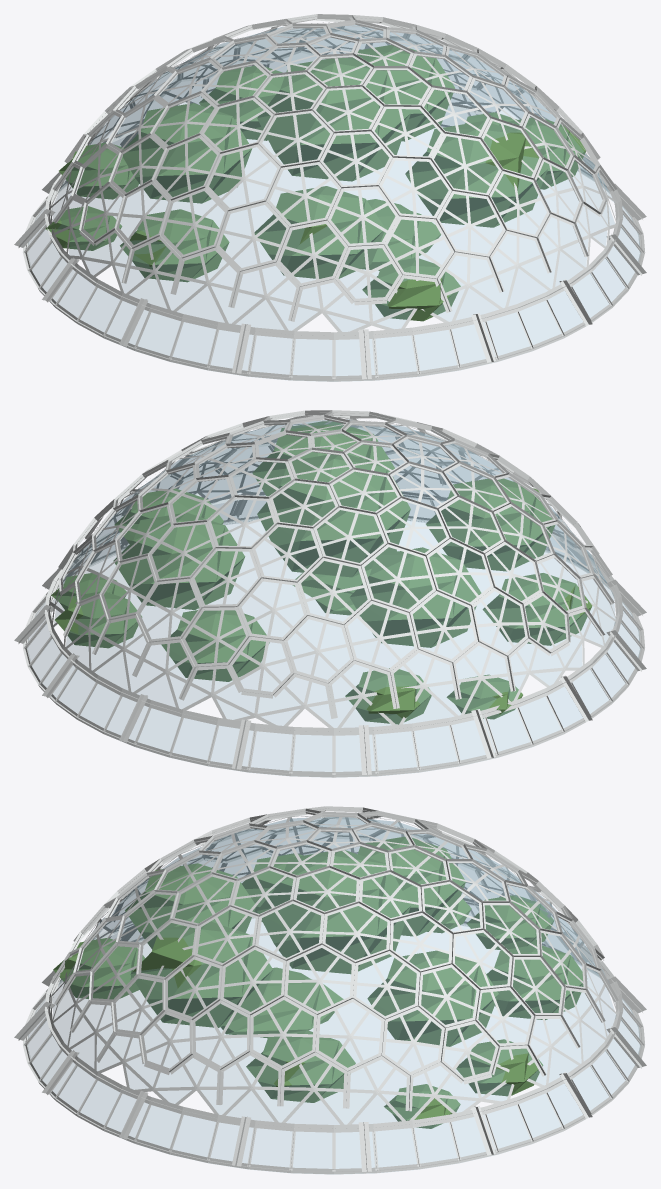
File: stl-climatron.glb
The picture shows the model from 3 angles, top to bottom: view 1: azimuth 30°, elevation 25°; view 2: azimuth 150°, elevation 25°; view 3: azimuth 270°, elevation 25°; orthographic projection.
Visible parts, largest first — view 1: Climatron; view 2: Climatron; view 3: Climatron.
Boxes of the visible parts, <box> form: Climatron: <box>14,14,646,381</box>; Climatron: <box>14,410,646,777</box>; Climatron: <box>14,806,646,1174</box>.
Bounding box in the file's own units: 57.72 × 20.71 × 57.41.
